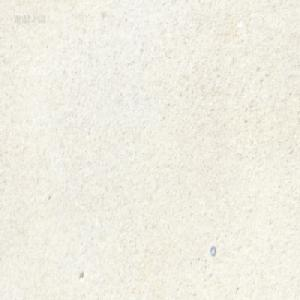Washer: (210, 245, 216, 256)
